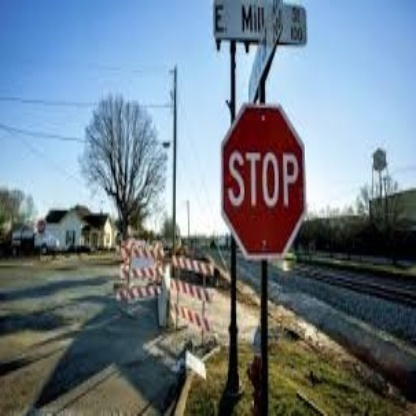stop: (221, 105, 306, 260)
